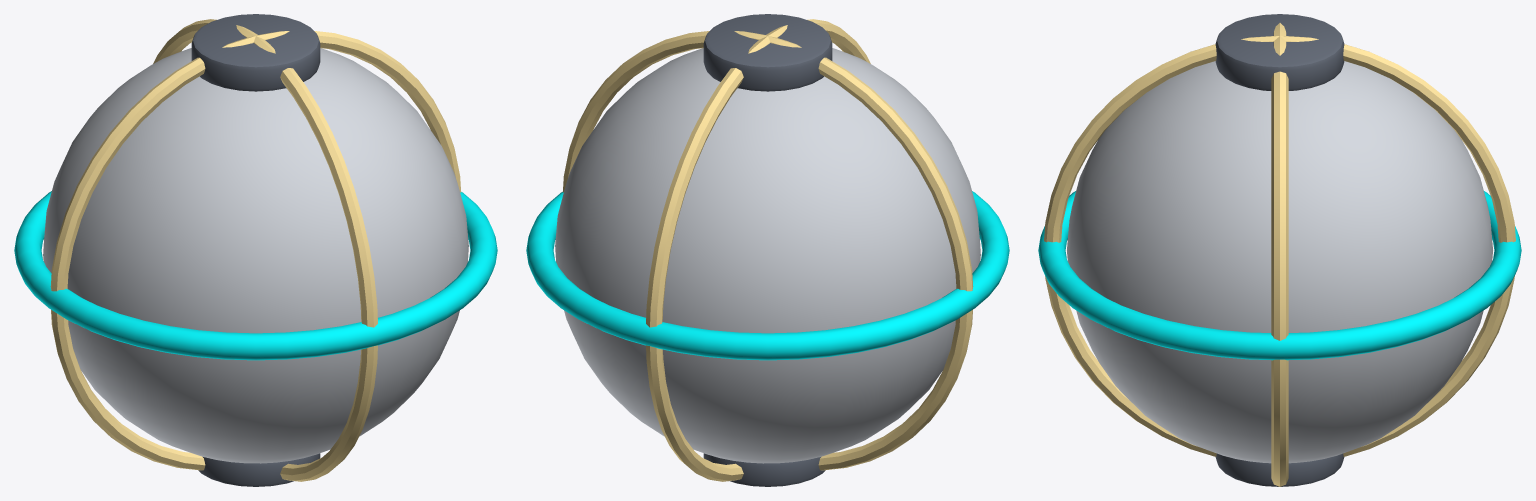
The model's file is fissile_core.glb.
The picture shows the model from 3 angles, left to right: view 1: azimuth 30°, elevation 25°; view 2: azimuth 150°, elevation 25°; view 3: azimuth 270°, elevation 25°; orthographic projection.
Parts seen in each view (by area): view 1: Sphere; view 2: Sphere; view 3: Sphere.
Part boxes in pixels (x1,y1,x2,y2): Sphere: (14, 14, 497, 486); Sphere: (526, 14, 1009, 486); Sphere: (1038, 14, 1521, 486).
Bounding box in the file's own units: 1.95 × 1.91 × 1.95.
